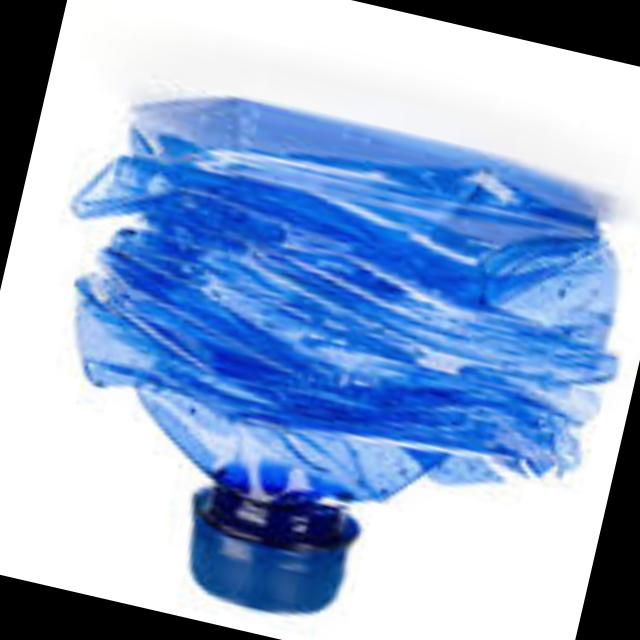plastic: (65, 104, 610, 616)
